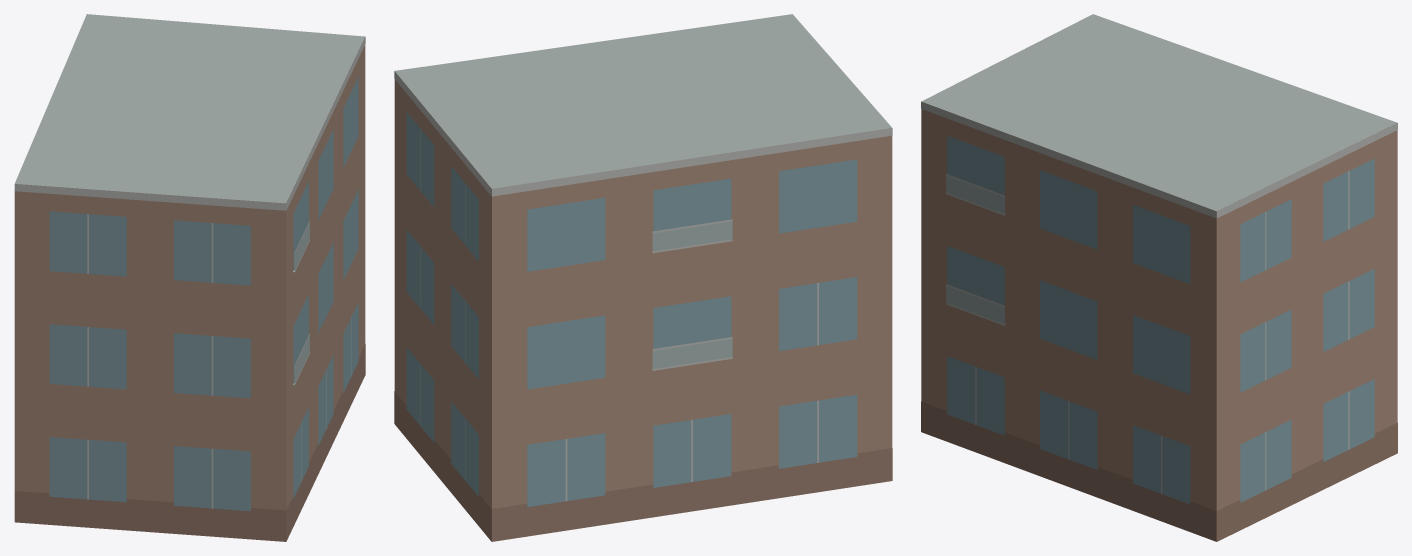
Rendered from survey-upis-32924859.glb.
3 views of the same model, side by side, from view 1: azimuth 30°, elevation 25°; view 2: azimuth 150°, elevation 25°; view 3: azimuth 270°, elevation 25° (orthographic). The views are drawn at different scales.
Parts seen in each view (by area): view 1: survey-upis-32924859.tmp; view 2: survey-upis-32924859.tmp; view 3: survey-upis-32924859.tmp.
Boxes of the visible parts, box(x1,y1,x2,y2) form: survey-upis-32924859.tmp: box(14, 14, 365, 541); survey-upis-32924859.tmp: box(394, 14, 892, 541); survey-upis-32924859.tmp: box(921, 14, 1397, 541).
Bounding box in the file's own units: 14.35 × 11.2 × 14.64.
